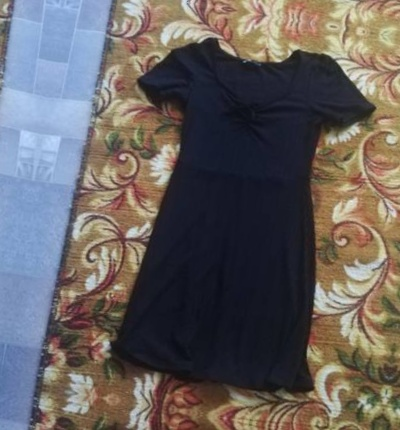Dress: (62, 7, 400, 413), (127, 0, 400, 25), (0, 418, 350, 430), (0, 0, 5, 344)
